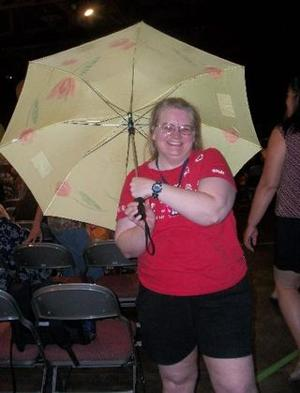person: (114, 98, 258, 393)
